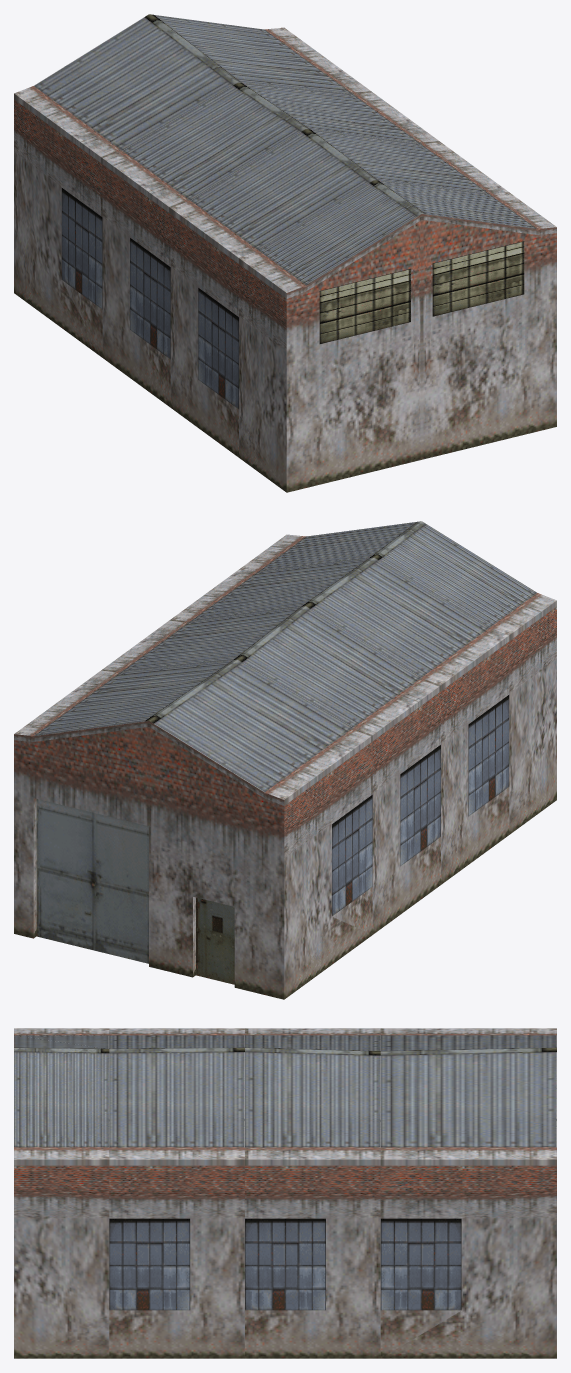
File: psxprop_-_old_warehouse.glb
The picture shows the model from 3 angles, top to bottom: view 1: azimuth 30°, elevation 25°; view 2: azimuth 150°, elevation 25°; view 3: azimuth 270°, elevation 25°; orthographic projection.
Visible parts, largest first — view 1: oldWareHouse_01; view 2: oldWareHouse_01; view 3: oldWareHouse_01.
Boxes of the visible parts, bbox=[...] form: oldWareHouse_01: bbox=[14, 14, 556, 492]; oldWareHouse_01: bbox=[14, 521, 556, 999]; oldWareHouse_01: bbox=[14, 1028, 556, 1358].
Size of the model in its own units: 8 by 6.96 by 13.99.
1 material, 1 textured.
